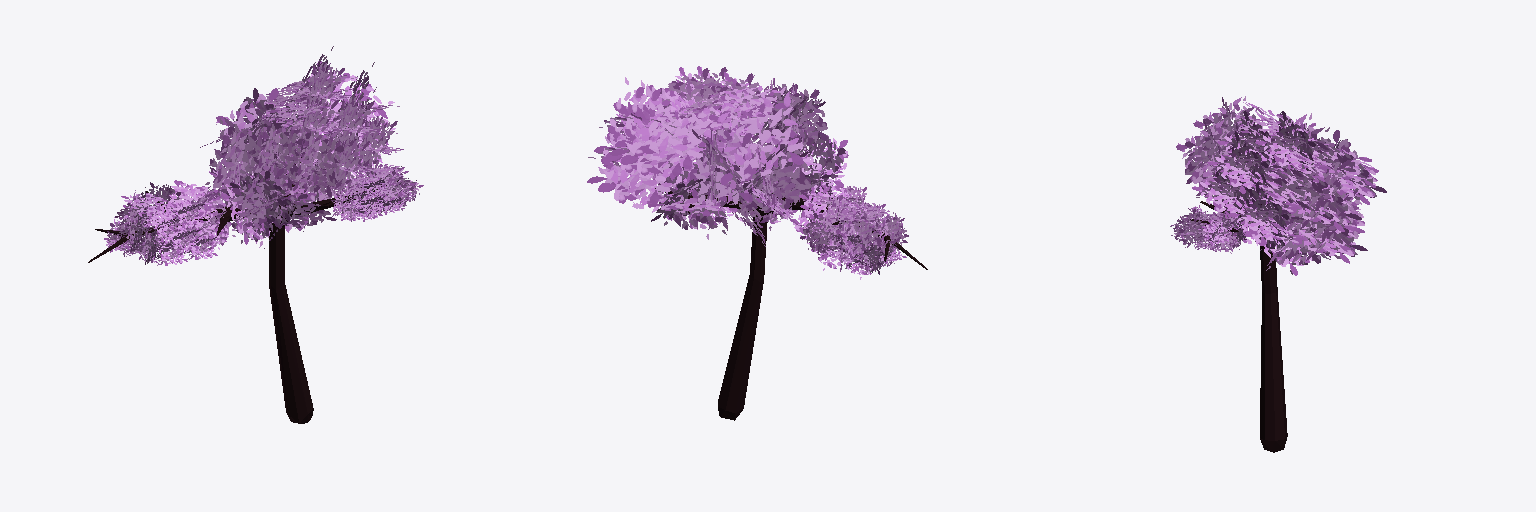
3 renders of one model, left to right at view 1: azimuth 30°, elevation 25°; view 2: azimuth 150°, elevation 25°; view 3: azimuth 270°, elevation 25°, orthographic.
Parts seen in each view (by area): view 1: Plane.001_Plane.058, Plane.047, Cube.001, Plane.000_Plane.056; view 2: Plane.001_Plane.058, Plane.047, Cube.001; view 3: Plane.001_Plane.058, Cube.001, Plane.000_Plane.056.
Boxes of the visible parts, <box> form: Plane.001_Plane.058: <box>200,46,403,248</box>; Plane.047: <box>104,180,235,265</box>; Cube.001: <box>88,157,398,423</box>; Plane.000_Plane.056: <box>331,164,423,221</box>; Plane.001_Plane.058: <box>587,66,848,246</box>; Plane.047: <box>790,177,908,279</box>; Cube.001: <box>655,166,927,420</box>; Plane.001_Plane.058: <box>1176,96,1386,275</box>; Cube.001: <box>1190,201,1287,452</box>; Plane.000_Plane.056: <box>1170,205,1246,253</box>.
Size of the model in its own units: 12.1 by 12.39 by 7.22.
2 materials, 1 textured.